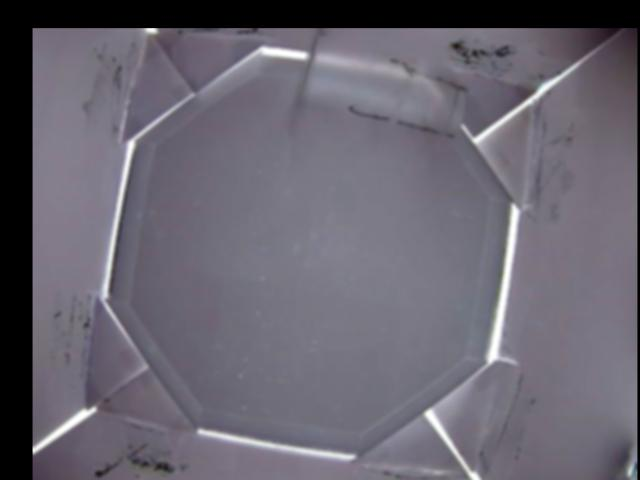Cup: (287, 32, 466, 158)
